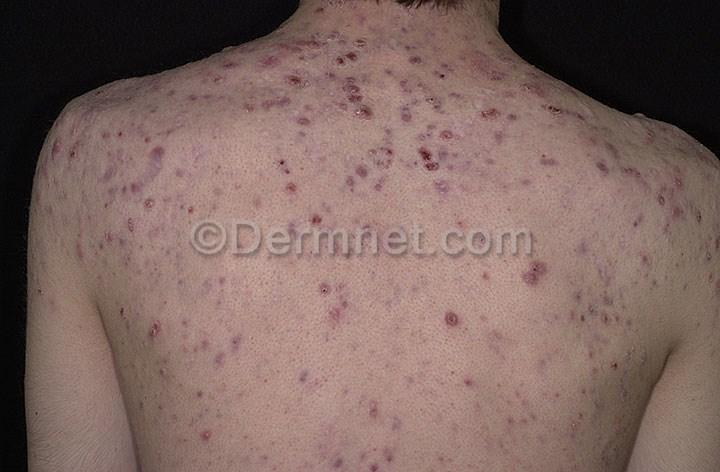Acne: (90, 125, 181, 227), (264, 31, 321, 98), (411, 133, 460, 199), (337, 68, 379, 129), (512, 260, 556, 294), (440, 304, 457, 335)
